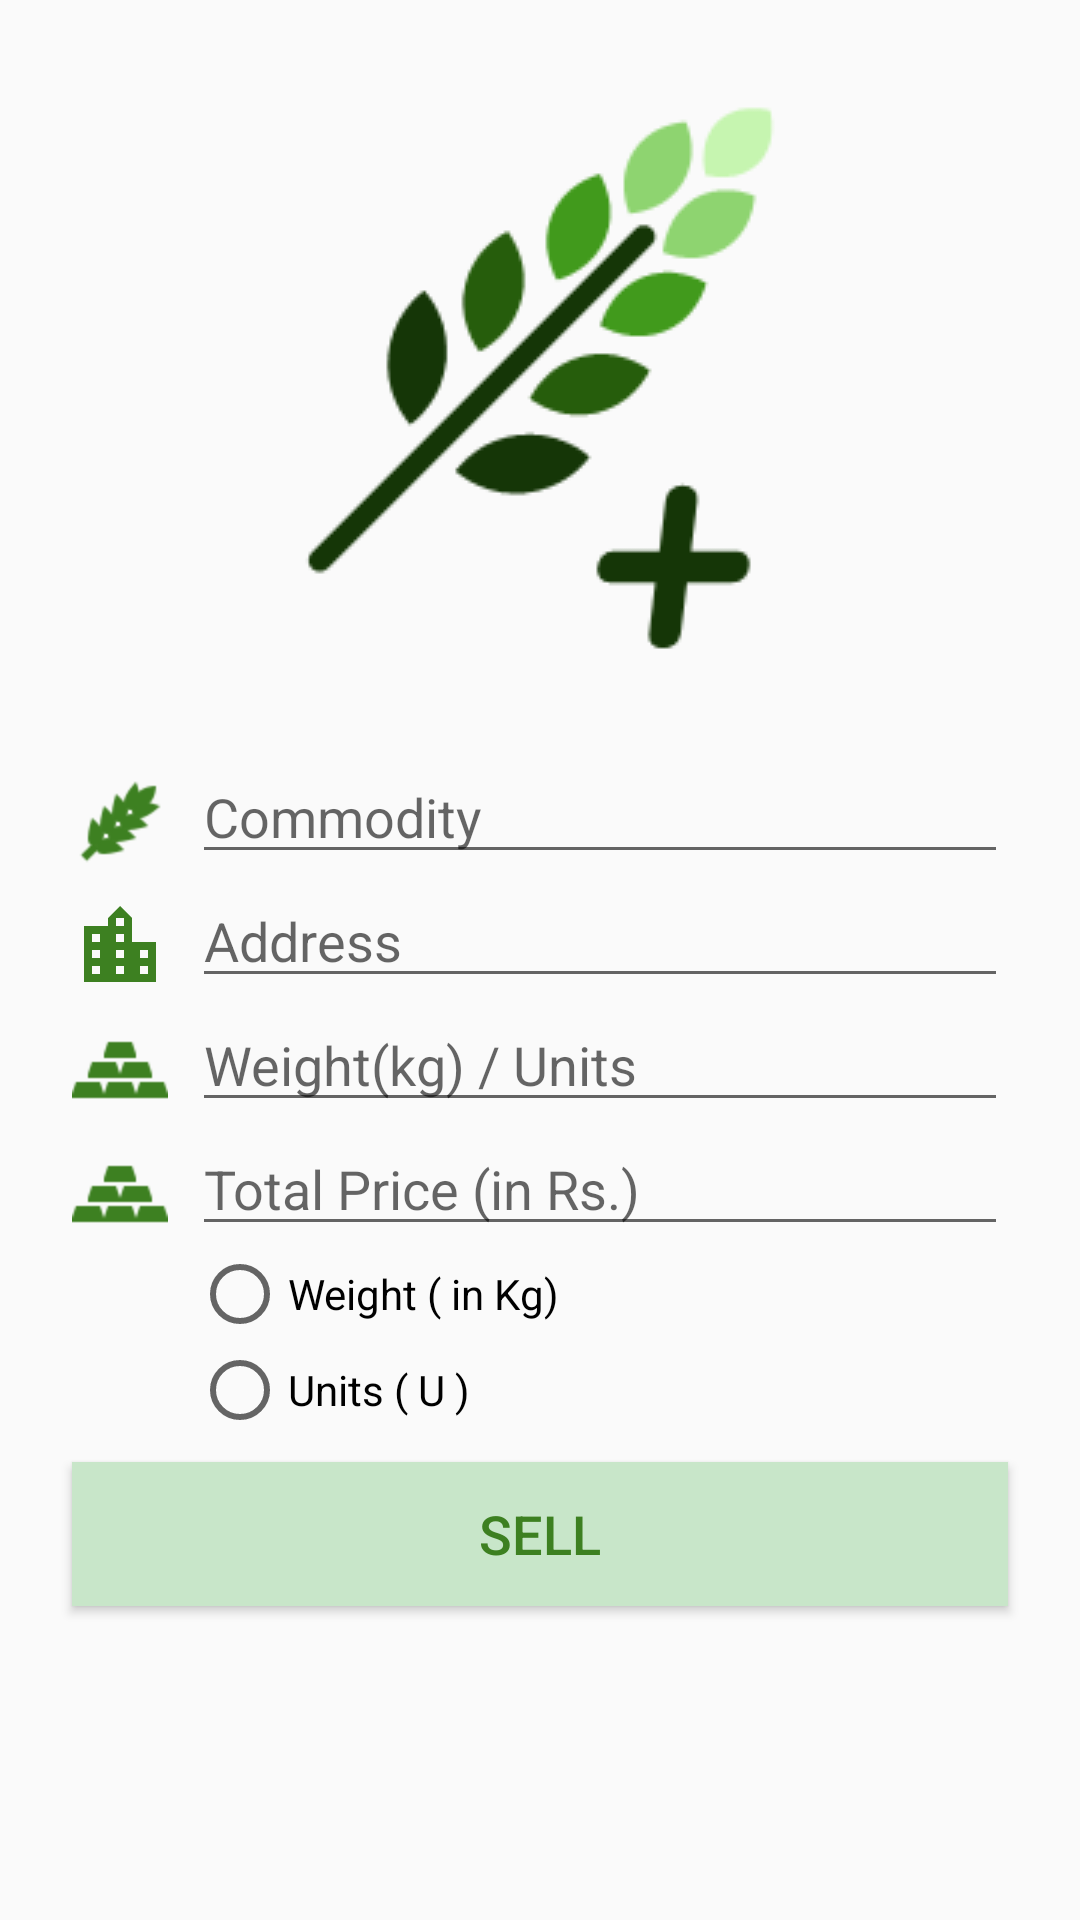

Where to tap for icons on this 1080px x 1920px app screen, as point (x, y):
location city: point (120, 944)
wheat: point (120, 821)
